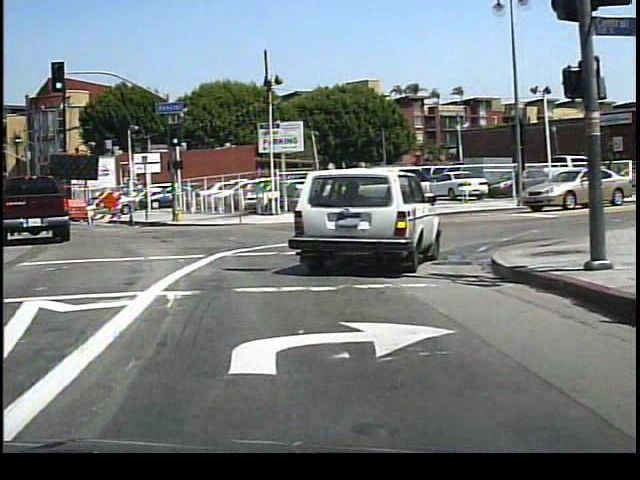person: (508, 162, 528, 205)
